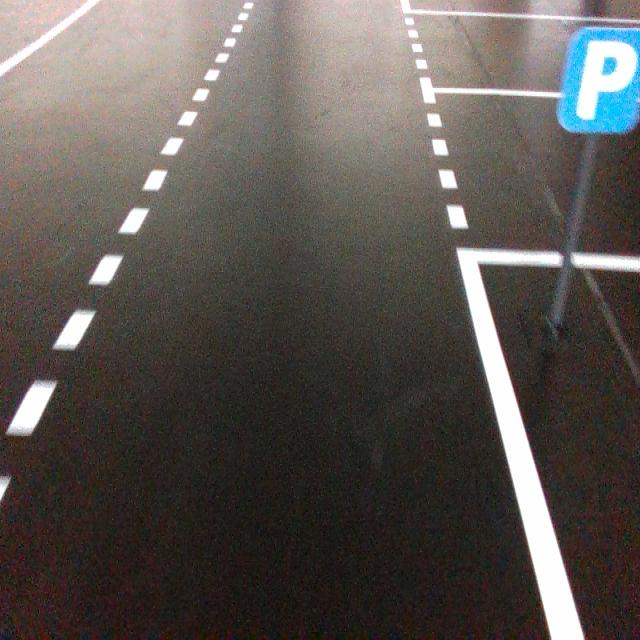parking-sign: (557, 27, 640, 135)
